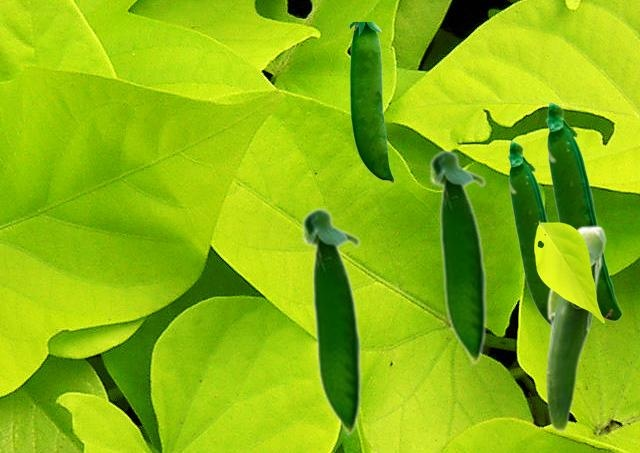pea: (545, 101, 621, 320), (300, 206, 361, 439), (428, 148, 486, 367), (545, 225, 606, 431), (507, 140, 549, 324), (350, 22, 393, 183)
